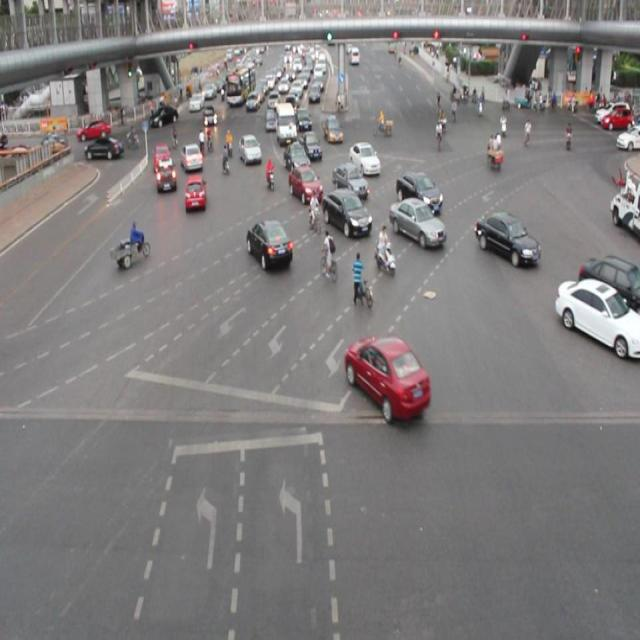car: (342, 333, 430, 422), (552, 278, 640, 356), (473, 209, 541, 267), (577, 252, 640, 307), (388, 196, 445, 246), (244, 219, 294, 273), (322, 188, 370, 235), (393, 168, 443, 212), (286, 165, 322, 205), (331, 161, 368, 199), (347, 142, 381, 174), (182, 172, 206, 213), (283, 139, 311, 174), (237, 133, 262, 166), (155, 158, 178, 192), (298, 130, 322, 160), (182, 142, 204, 173), (152, 142, 173, 174)
